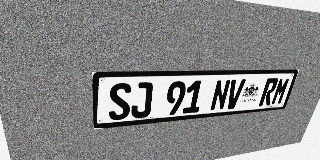1: (182, 80, 205, 114)
9: (165, 81, 187, 115)
J: (131, 82, 153, 119)
M: (270, 78, 291, 105)
N: (209, 79, 231, 111)
R: (258, 78, 279, 106)
S: (109, 83, 132, 121)
V: (224, 79, 246, 110)
